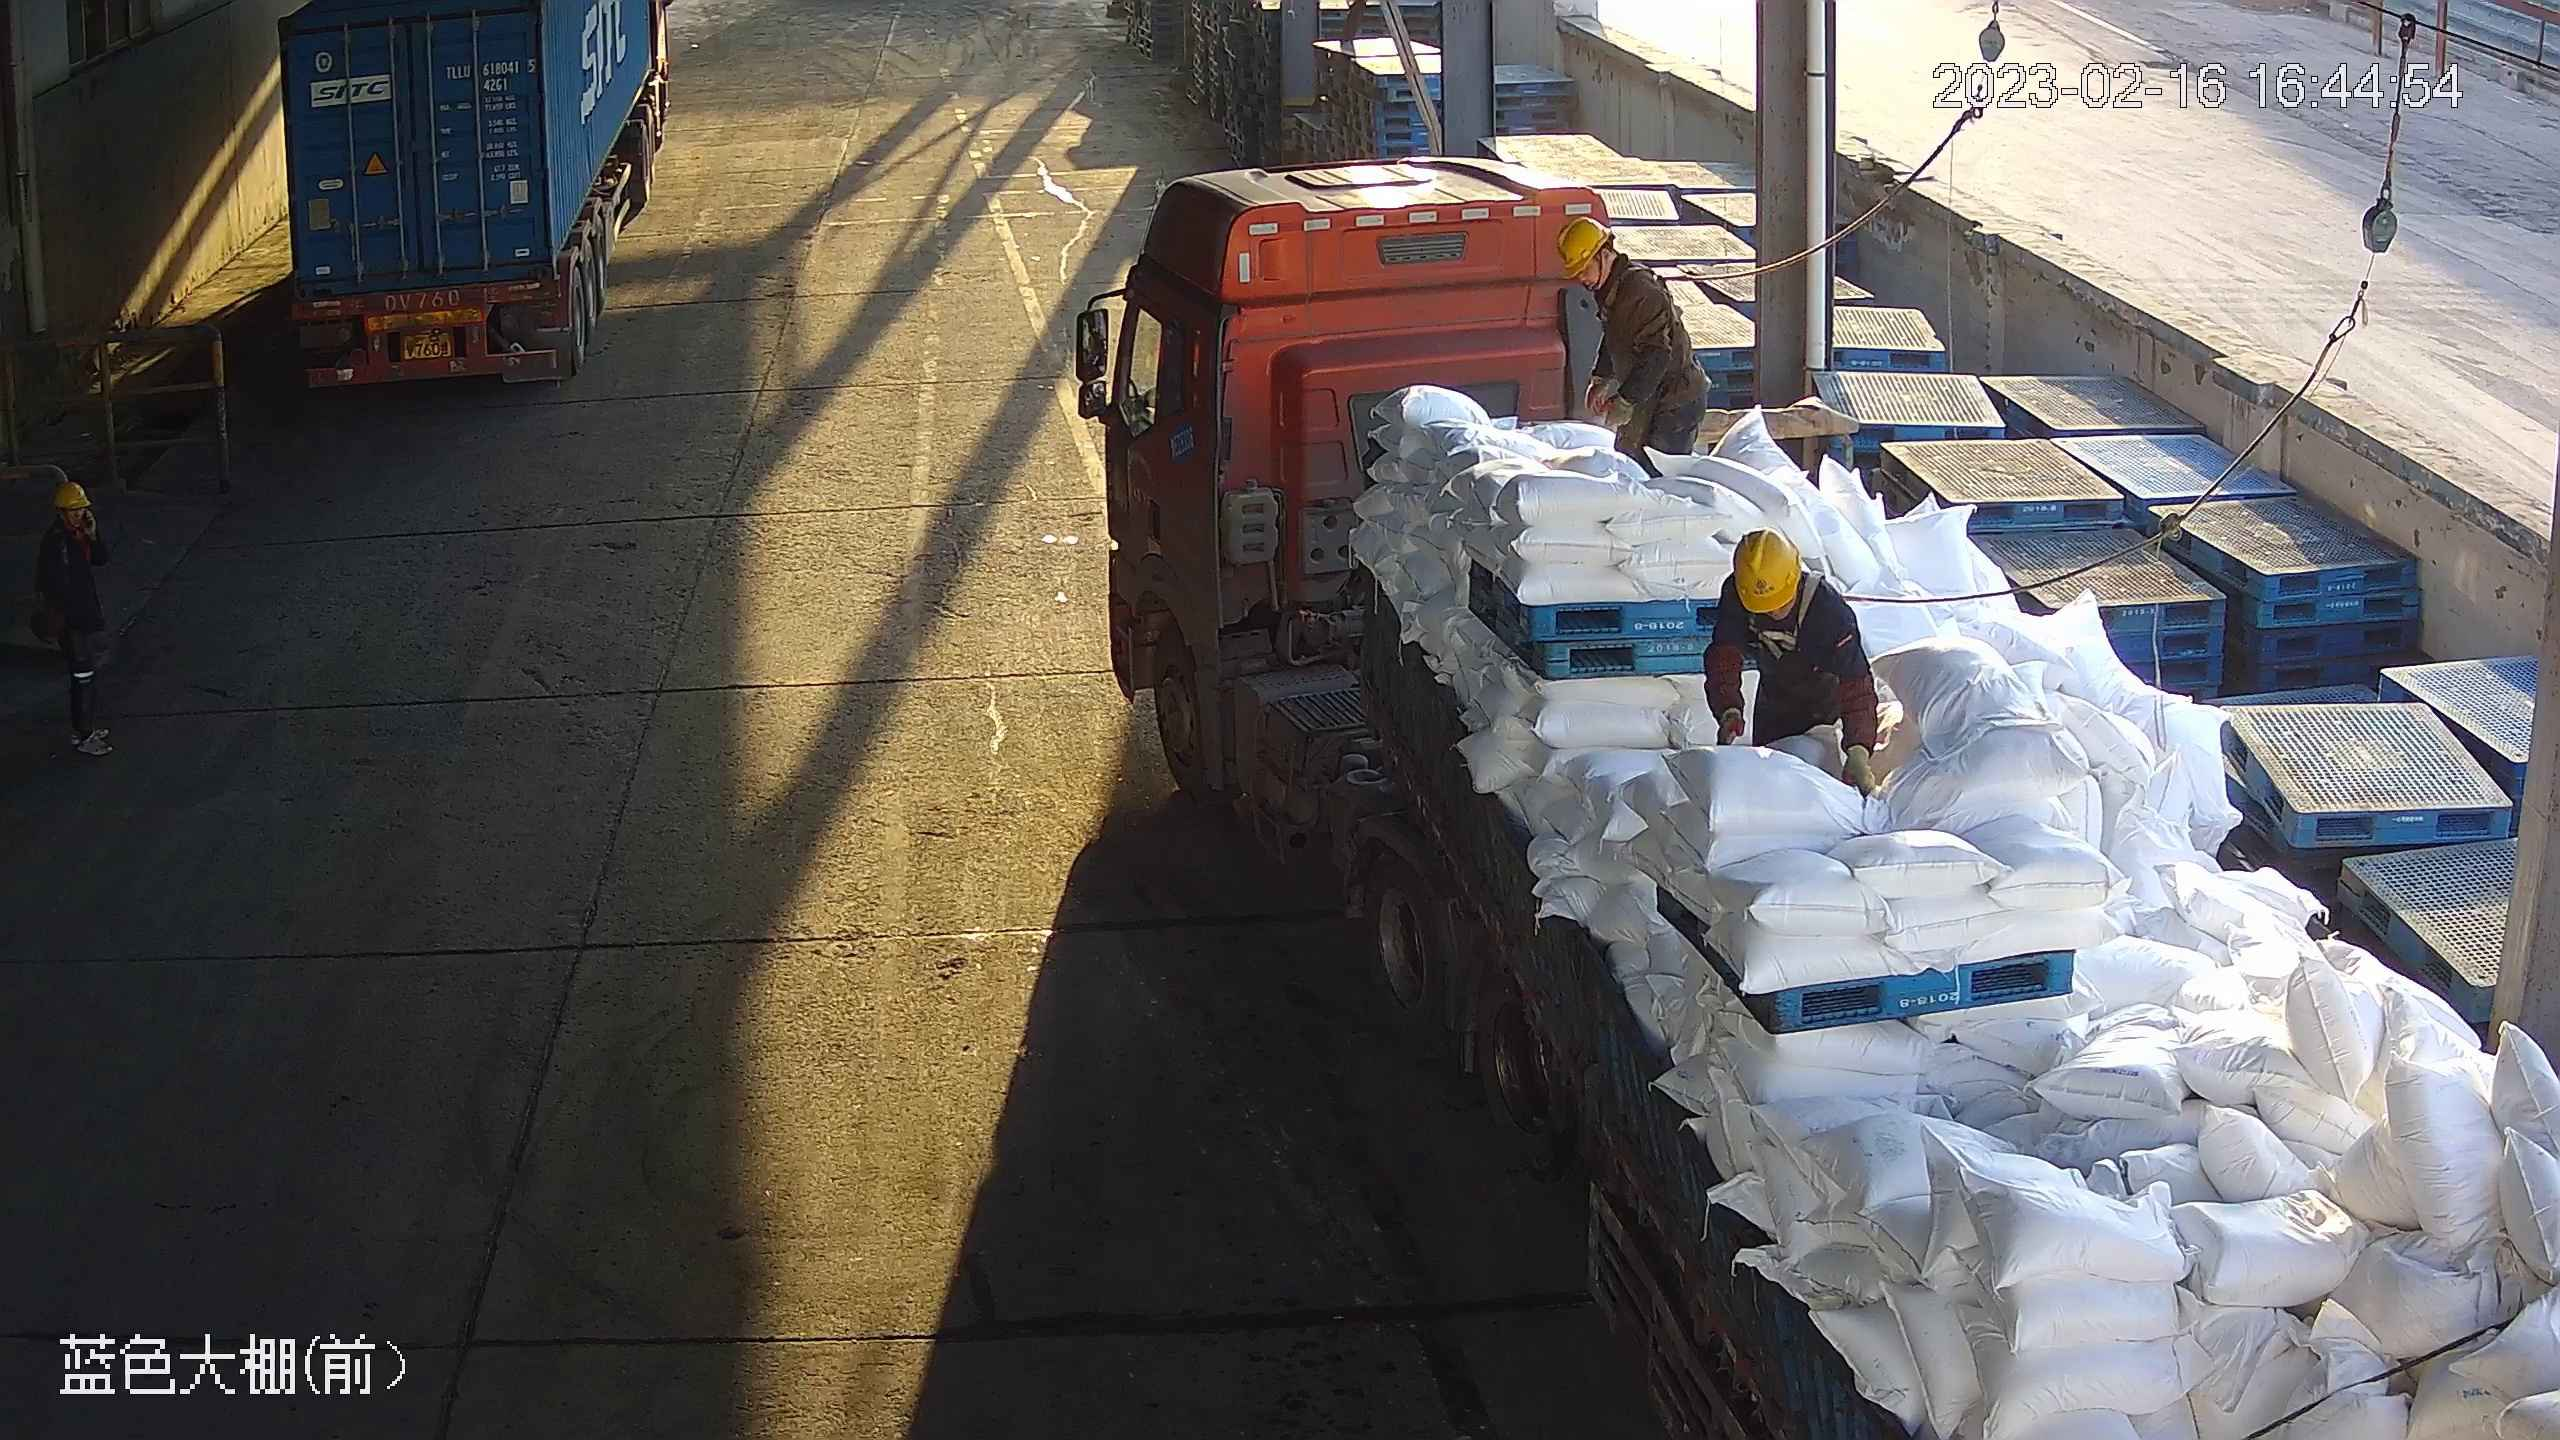belt: (1590, 258, 1681, 346), (1751, 597, 1813, 665)
head: (1721, 529, 1835, 636), (1546, 215, 1656, 302), (46, 485, 102, 581)
helmet: (1727, 529, 1802, 611), (1556, 215, 1611, 274), (51, 485, 90, 516)
people: (1700, 532, 1877, 809), (1562, 216, 1713, 474), (35, 478, 123, 771)
truck: (1081, 160, 2560, 1440), (281, 1, 676, 397)
